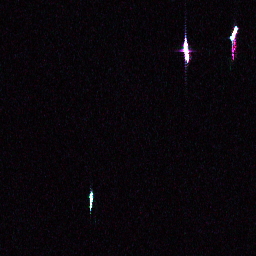ship: (181, 38, 191, 63), (228, 24, 241, 43), (87, 190, 94, 209)
